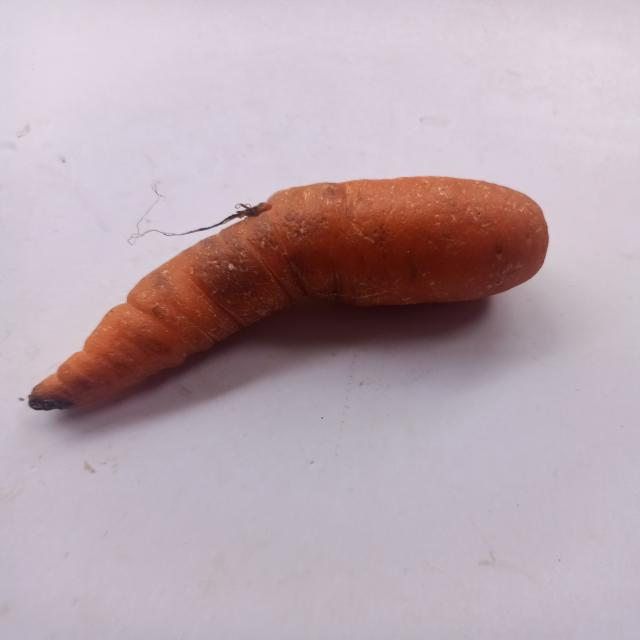Carrot: (22, 165, 581, 445)
